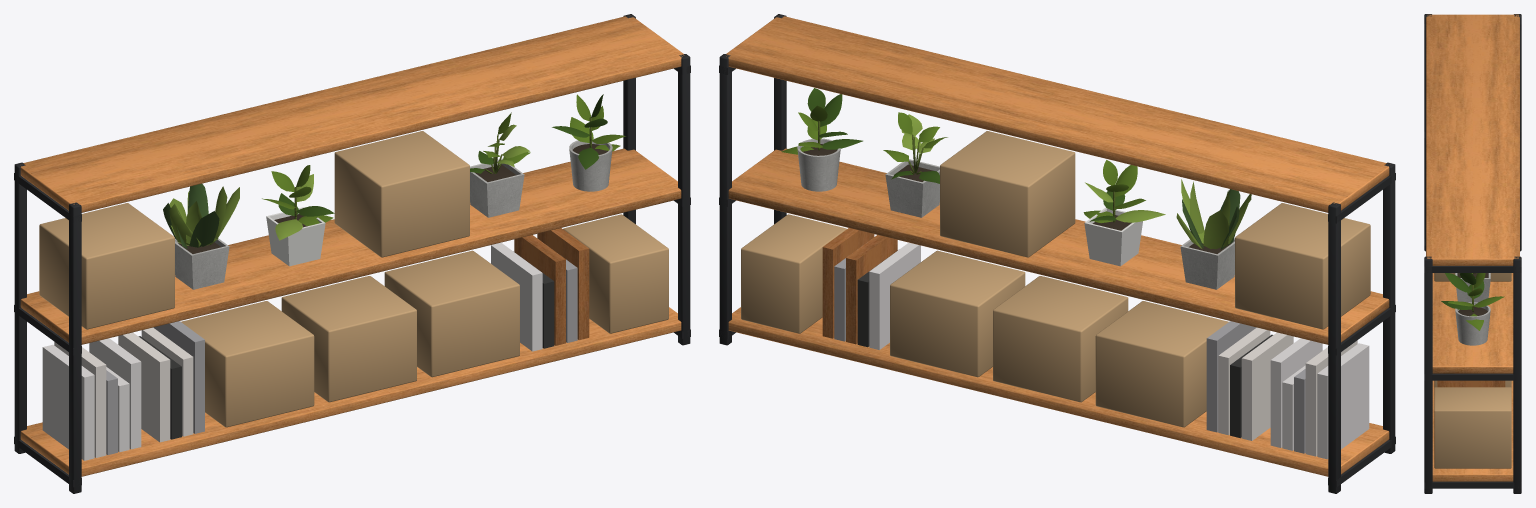
Rendered from storage.shelf-divider-tall.glb.
3 views of the same model, side by side, from view 1: azimuth 30°, elevation 25°; view 2: azimuth 150°, elevation 25°; view 3: azimuth 270°, elevation 25° (orthographic). The views are drawn at different scales.
Visible parts, largest first — view 1: storage.shelf-divider-tall.001; view 2: storage.shelf-divider-tall.001; view 3: storage.shelf-divider-tall.001.
Boxes of the visible parts, x1,y1,x2,y2 form: storage.shelf-divider-tall.001: (14,14,690,493); storage.shelf-divider-tall.001: (719,14,1395,493); storage.shelf-divider-tall.001: (1424,14,1521,493).
Bounding box in the file's own units: 1.8 × 0.8 × 0.3.
Materials: 16 (3 with a texture image).
